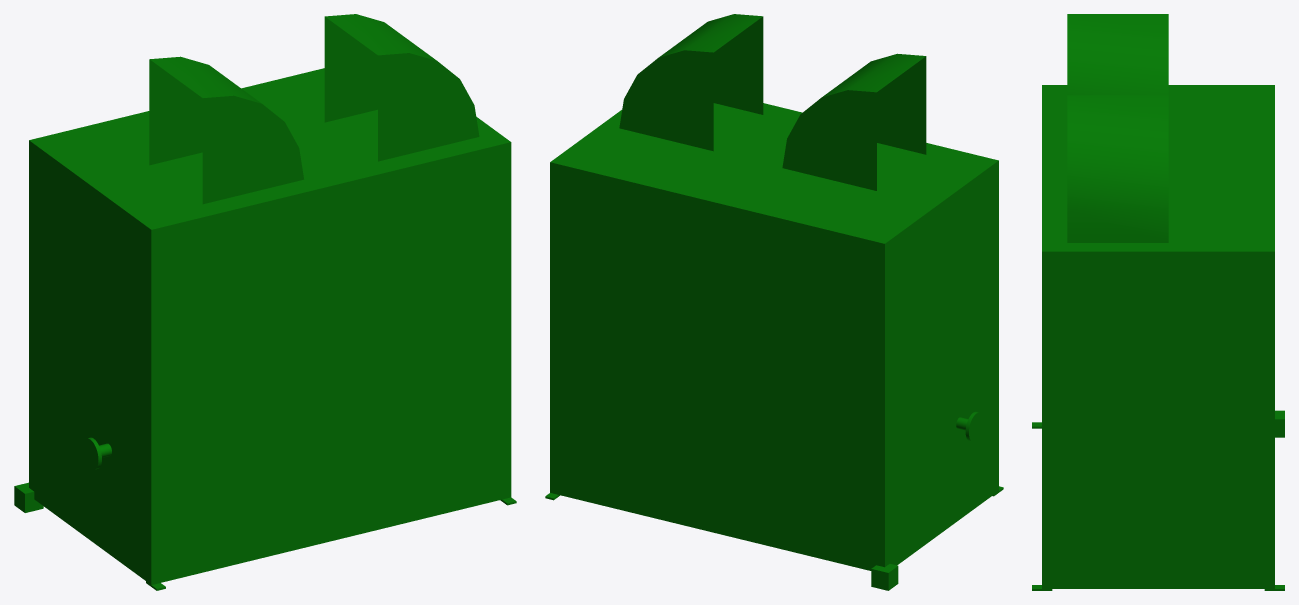
The model's file is Image-1710907701809-2280936923888_75-SK51.fbx.
3 views of the same model, side by side, from view 1: azimuth 30°, elevation 25°; view 2: azimuth 150°, elevation 25°; view 3: azimuth 270°, elevation 25° (orthographic). The views are drawn at different scales.
Visible parts, largest first — view 1: BOX 1 of SUBEQUIPMENT /75-SK511/PRIM, RTORUS 3 of SUBEQUIPMENT /75-SK511/ACCESS, RTORUS 2 of SUBEQUIPMENT /75-SK511/ACCESS, /75-SK50/N1; view 2: BOX 1 of SUBEQUIPMENT /75-SK511/PRIM, RTORUS 2 of SUBEQUIPMENT /75-SK511/ACCESS, RTORUS 3 of SUBEQUIPMENT /75-SK511/ACCESS, BOX 1 of SUBEQUIPMENT /SI-3159; view 3: BOX 1 of SUBEQUIPMENT /75-SK511/PRIM, RTORUS 2 of SUBEQUIPMENT /75-SK511/ACCESS, RTORUS 3 of SUBEQUIPMENT /75-SK511/ACCESS.
Boxes of the visible parts, x1,y1,x2,y2 form: BOX 1 of SUBEQUIPMENT /75-SK511/PRIM: (29, 68, 511, 584); RTORUS 3 of SUBEQUIPMENT /75-SK511/ACCESS: (149, 56, 303, 204); RTORUS 2 of SUBEQUIPMENT /75-SK511/ACCESS: (324, 14, 479, 161); /75-SK50/N1: (82, 437, 111, 469); BOX 1 of SUBEQUIPMENT /75-SK511/PRIM: (550, 103, 998, 570); RTORUS 2 of SUBEQUIPMENT /75-SK511/ACCESS: (619, 14, 763, 151); RTORUS 3 of SUBEQUIPMENT /75-SK511/ACCESS: (782, 53, 926, 190); BOX 1 of SUBEQUIPMENT /SI-3159: (871, 564, 898, 590); BOX 1 of SUBEQUIPMENT /75-SK511/PRIM: (1042, 85, 1274, 588); RTORUS 2 of SUBEQUIPMENT /75-SK511/ACCESS: (1067, 95, 1168, 242); RTORUS 3 of SUBEQUIPMENT /75-SK511/ACCESS: (1067, 14, 1168, 95).
Bounding box in the file's own units: 2.05 × 1.25 × 2.45.
